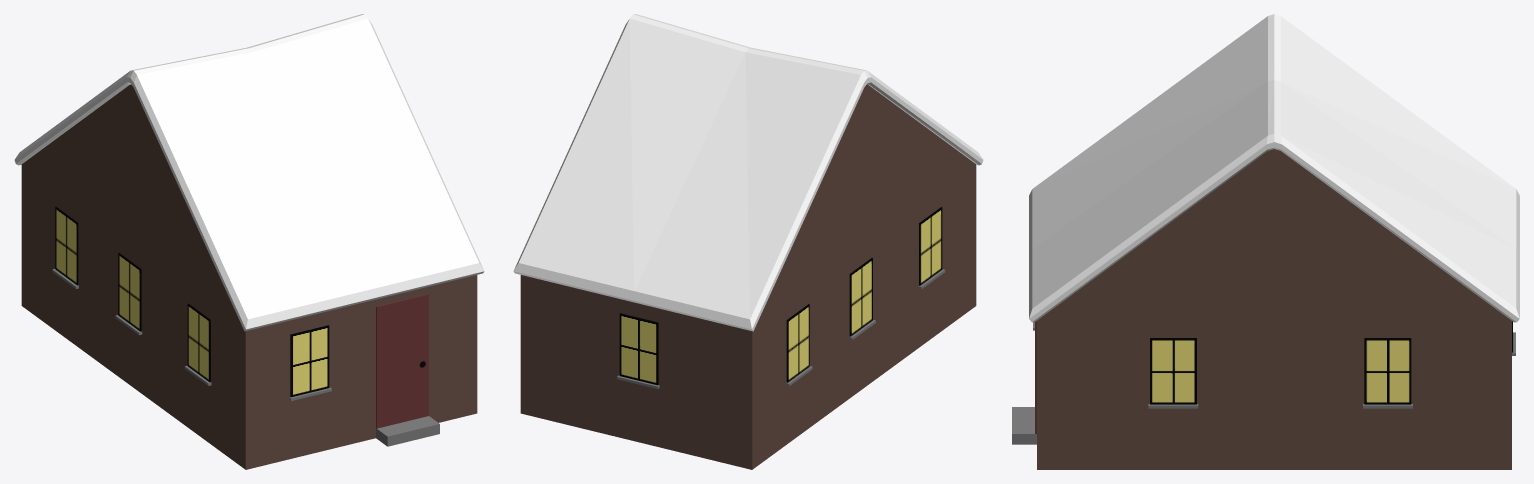
The model's file is house_1F_04.obj.
The picture shows the model from 3 angles, left to right: view 1: azimuth 30°, elevation 25°; view 2: azimuth 150°, elevation 25°; view 3: azimuth 270°, elevation 25°; orthographic projection. The views are drawn at different scales.
Size of the model in its own units: 417 by 530 by 726.
